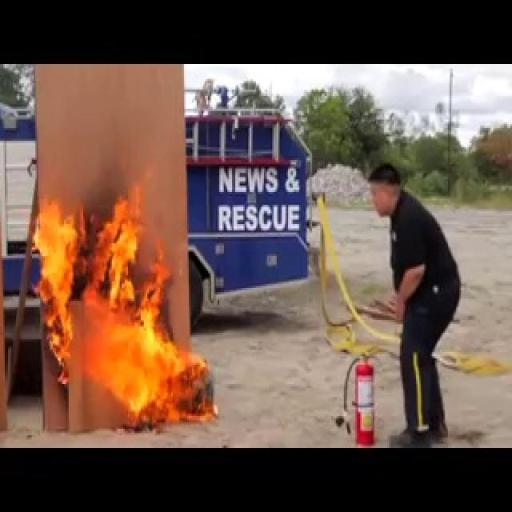smoke: (21, 143, 216, 433)
